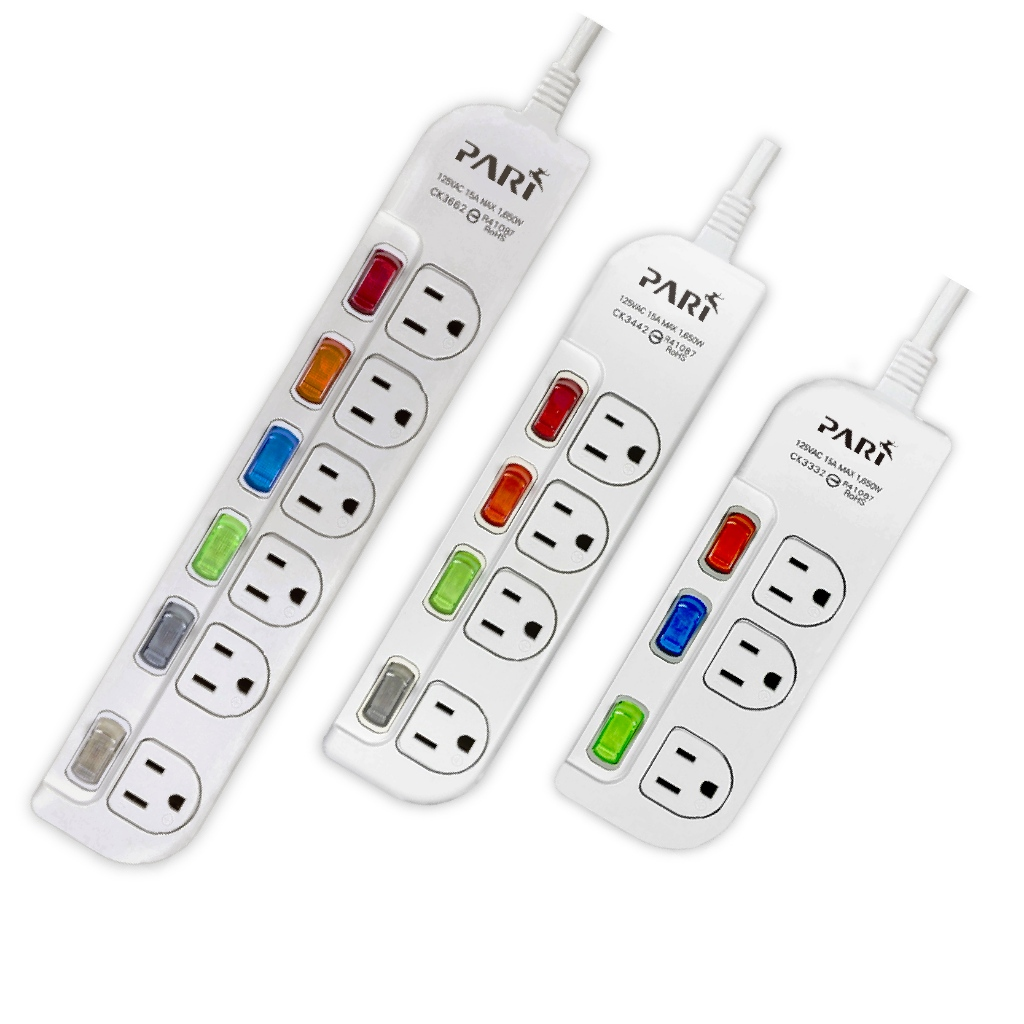socket: (28, 66, 591, 865), (320, 194, 768, 806), (553, 341, 951, 850)
